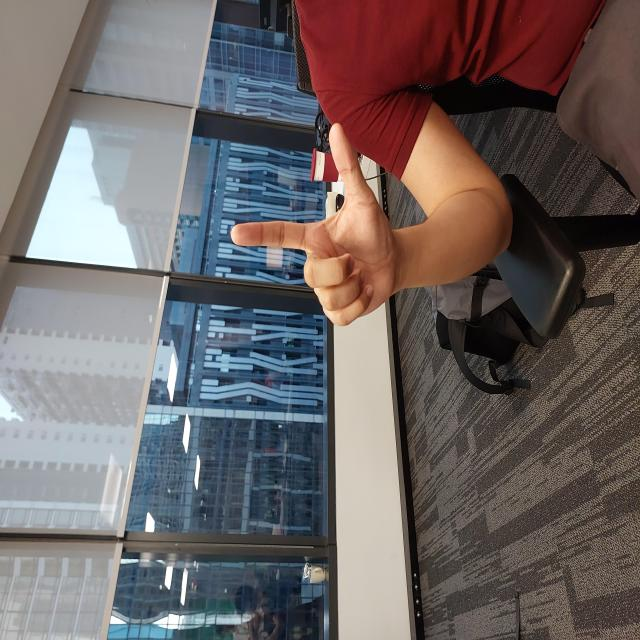L: (310, 229, 522, 400)
